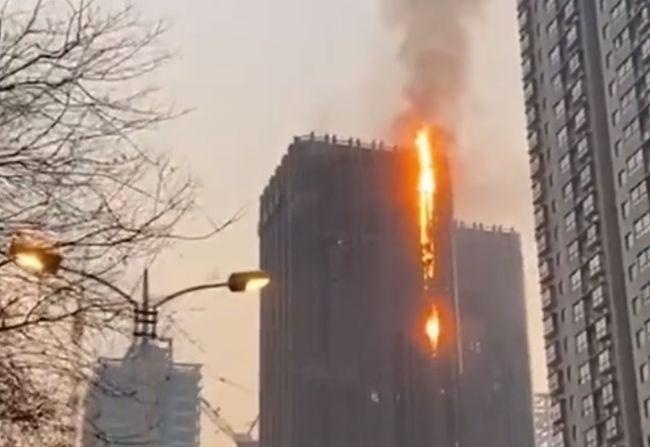fire: (412, 122, 436, 282), (424, 304, 441, 354)
